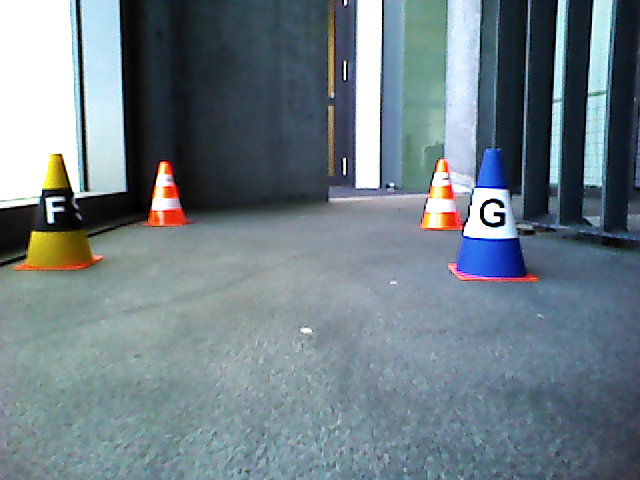bluecone: (458, 148, 524, 273)
orangeconesmall: (420, 160, 464, 231), (146, 161, 190, 226)
yellowcone: (26, 154, 89, 266)
